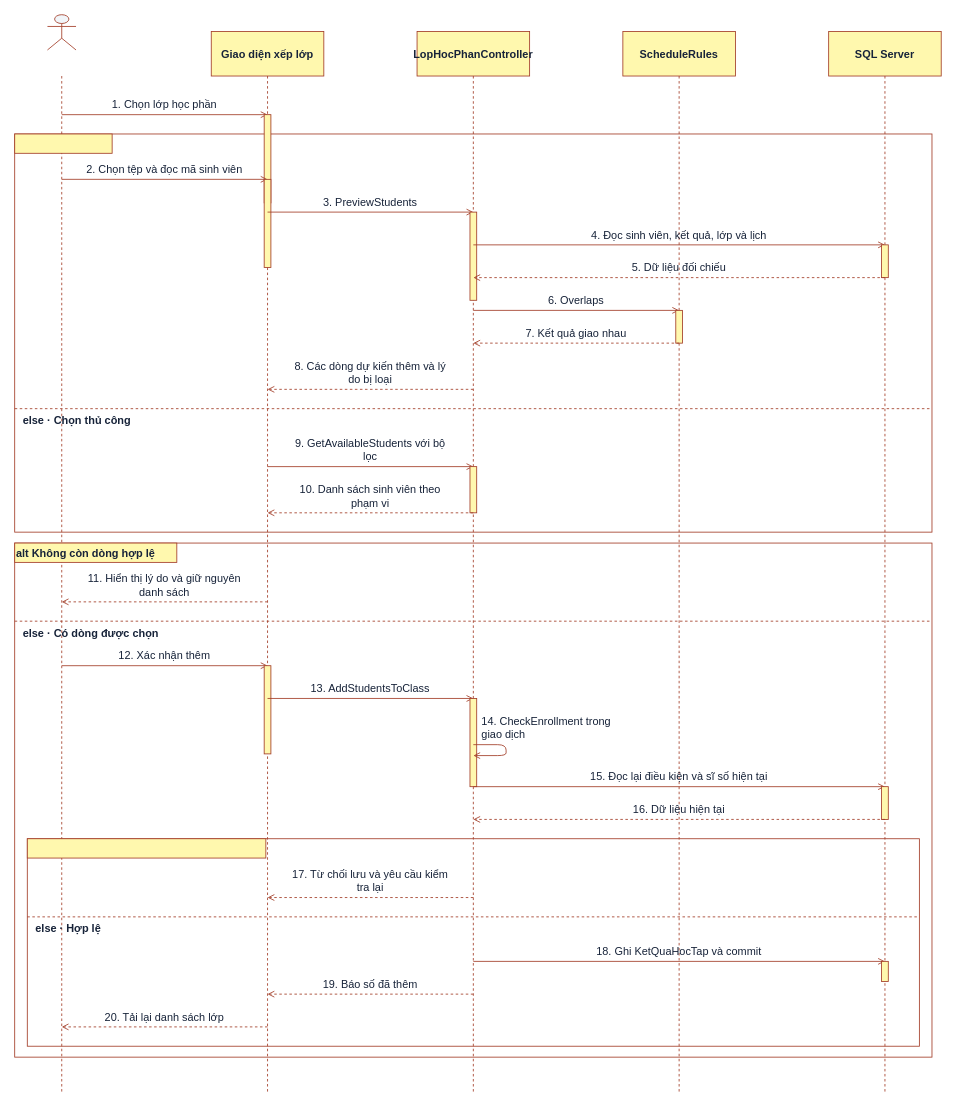
Some shapes in this 956 by 1109 pixel diagram are drawn without their labels. Each missing label, with the centre of its shape:
alt Dữ liệu thay đổi hoặc không hợp lệ: point (146, 848)
alt Nhập Excel: point (63, 143)
Quản trị viên: point (61, 32)
